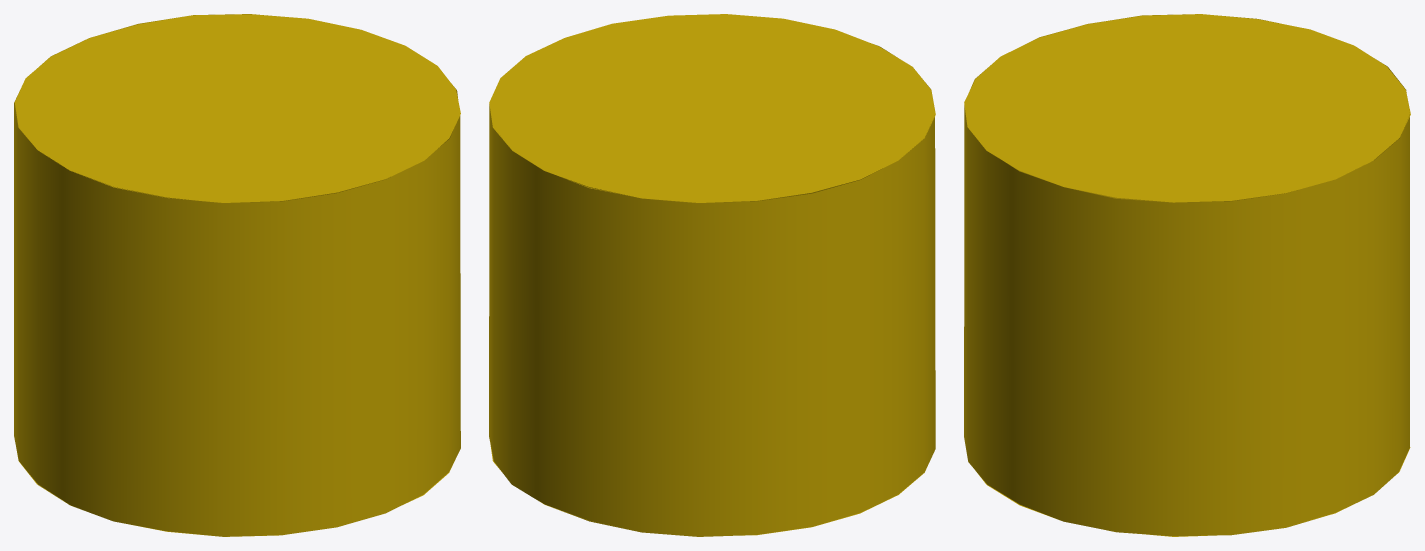
The model's file is original-13.obj.
3 renders of one model, left to right at view 1: azimuth 30°, elevation 25°; view 2: azimuth 150°, elevation 25°; view 3: azimuth 270°, elevation 25°, orthographic.
Parts seen in each view (by area): view 1: group_12/ID90#ID90; view 2: group_12/ID90#ID90; view 3: group_12/ID90#ID90.
Boxes of the visible parts, <box> form: group_12/ID90#ID90: <box>14,14,460,536</box>; group_12/ID90#ID90: <box>489,14,935,536</box>; group_12/ID90#ID90: <box>964,14,1410,536</box>.
Bounding box in the file's own units: 0.0771 × 0.0637 × 0.077.
